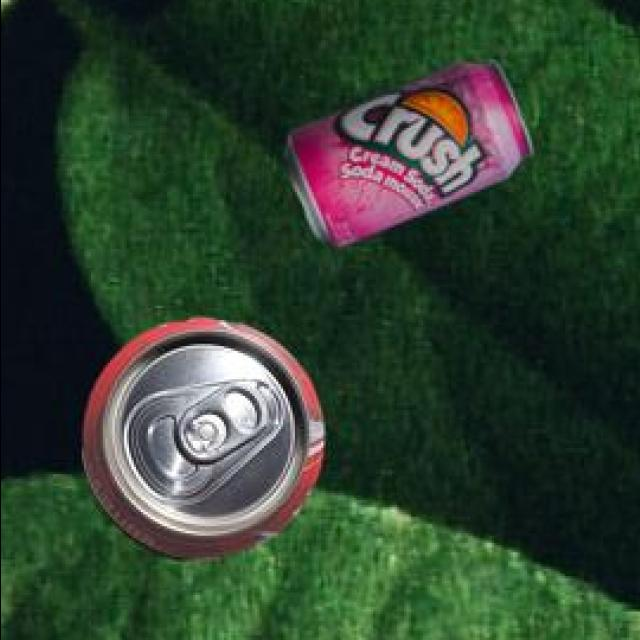logam: (87, 314, 326, 556), (286, 58, 535, 243)
